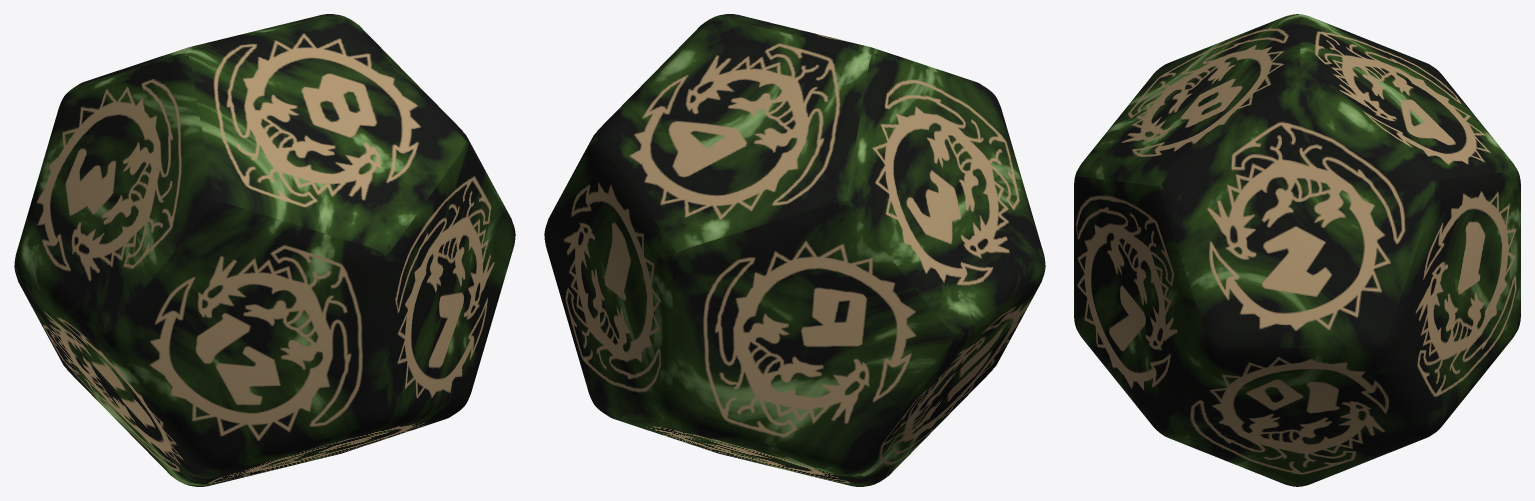
File: d12_dragons_matowy_zloty_normal40_SDRA98.glb
3 views of the same model, side by side, from view 1: azimuth 30°, elevation 25°; view 2: azimuth 150°, elevation 25°; view 3: azimuth 270°, elevation 25° (orthographic). The views are drawn at different scales.
Parts seen in each view (by area): view 1: Solid; view 2: Solid; view 3: Solid.
Part boxes in pixels (x1,y1,x2,y2): Solid: [14, 14, 515, 486]; Solid: [544, 14, 1045, 486]; Solid: [1074, 14, 1520, 486].
Bounding box in the file's own units: 164 × 164 × 164.
1 material, 1 textured.
